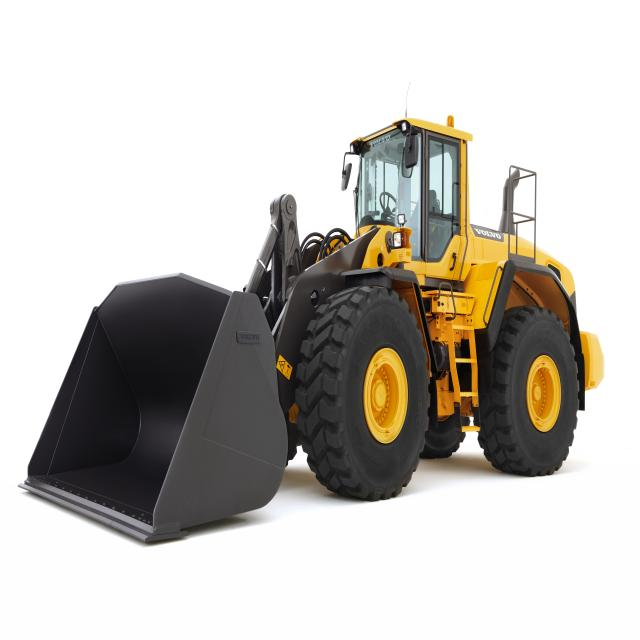buldozerpayloadergrader: (20, 106, 608, 521)
